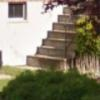stairs: (22, 4, 84, 73)
